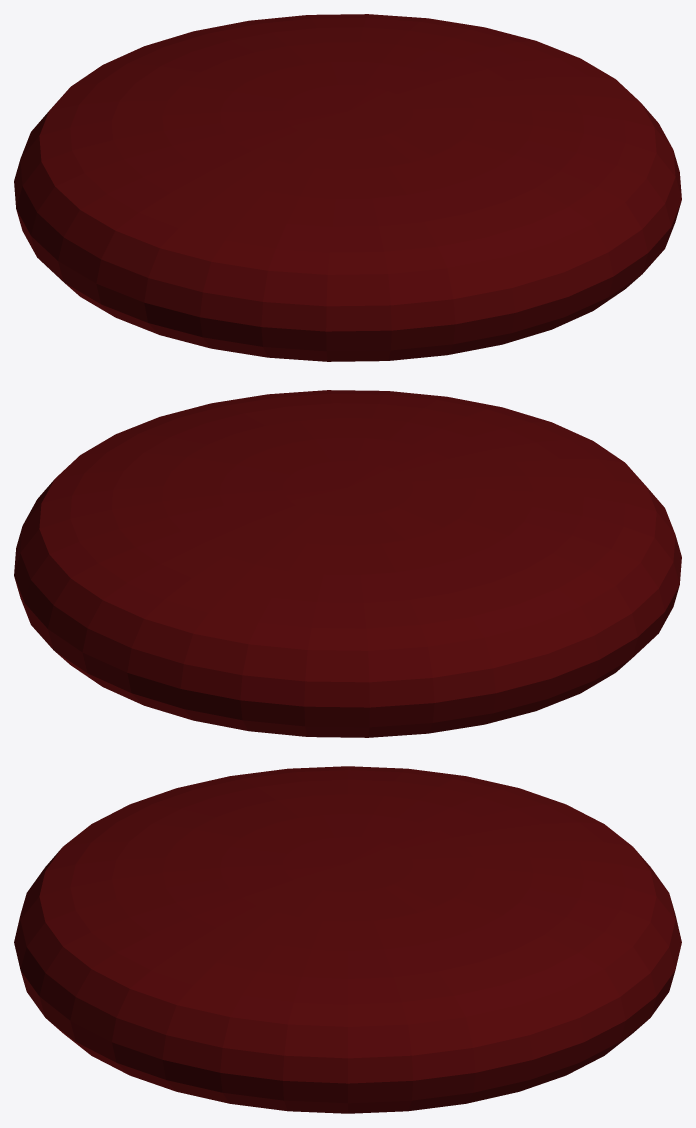
The model's file is Hamburguesa.fbx.
The picture shows the model from 3 angles, top to bottom: view 1: azimuth 30°, elevation 25°; view 2: azimuth 150°, elevation 25°; view 3: azimuth 270°, elevation 25°; orthographic projection.
Parts seen in each view (by area): view 1: Sphere; view 2: Sphere; view 3: Sphere.
Boxes of the visible parts, left/top/right/bottom form: Sphere: left=14, top=14, right=681, bottom=361; Sphere: left=14, top=390, right=681, bottom=737; Sphere: left=14, top=766, right=681, bottom=1113.
Size of the model in its own units: 163 by 40.86 by 163.
